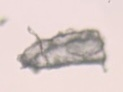microplastic: (16, 23, 109, 78)
